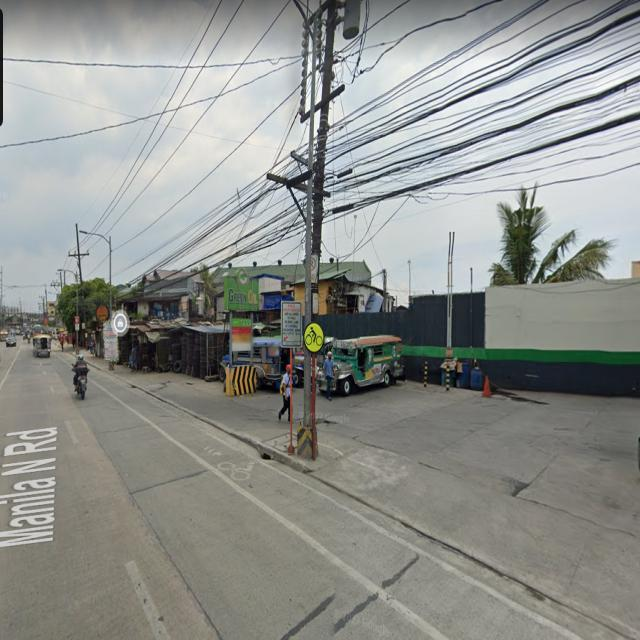bike lane: (303, 322, 325, 353)
